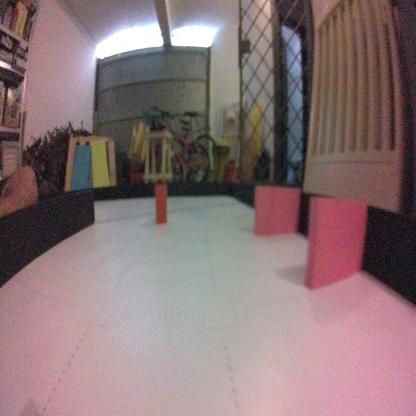magenta: (304, 194, 368, 290), (253, 183, 299, 240)
red: (154, 182, 167, 225)
